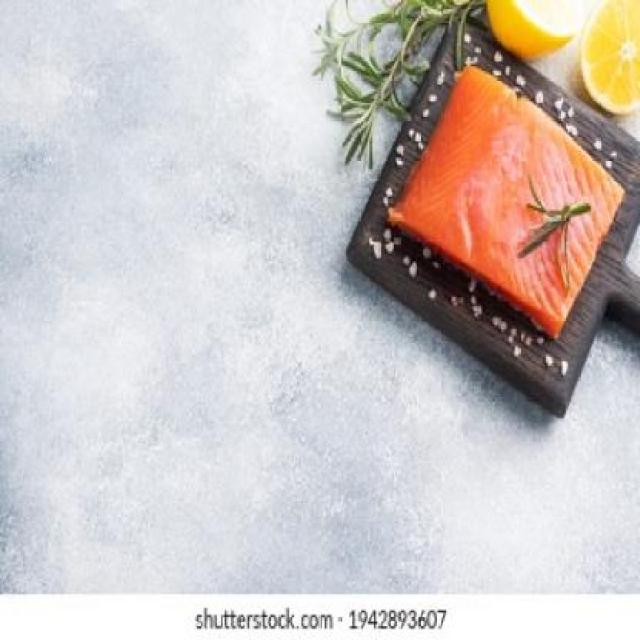salmon: (377, 51, 623, 352)
